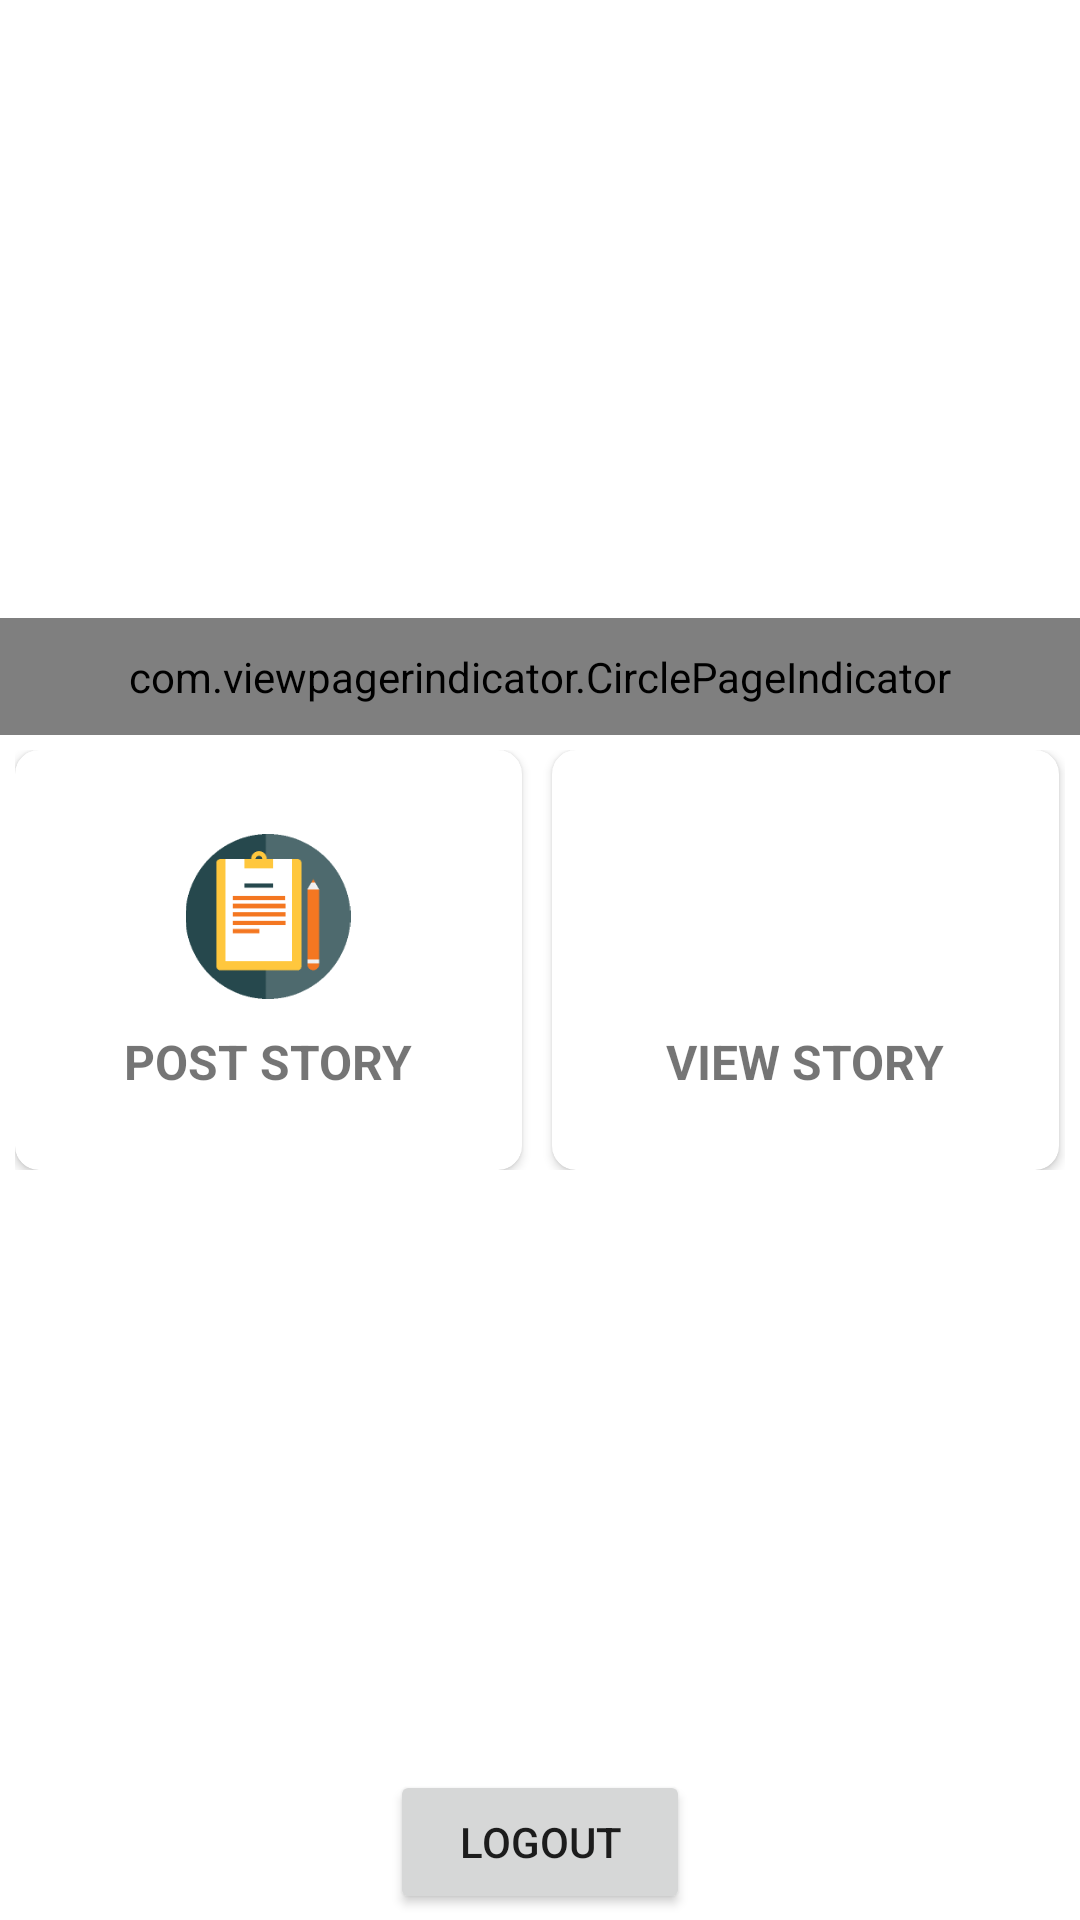

Where icons sit on this 1080 x 1920 app screen, as (x1, y1, x2, y2):
complaint: (186, 834, 351, 999)
